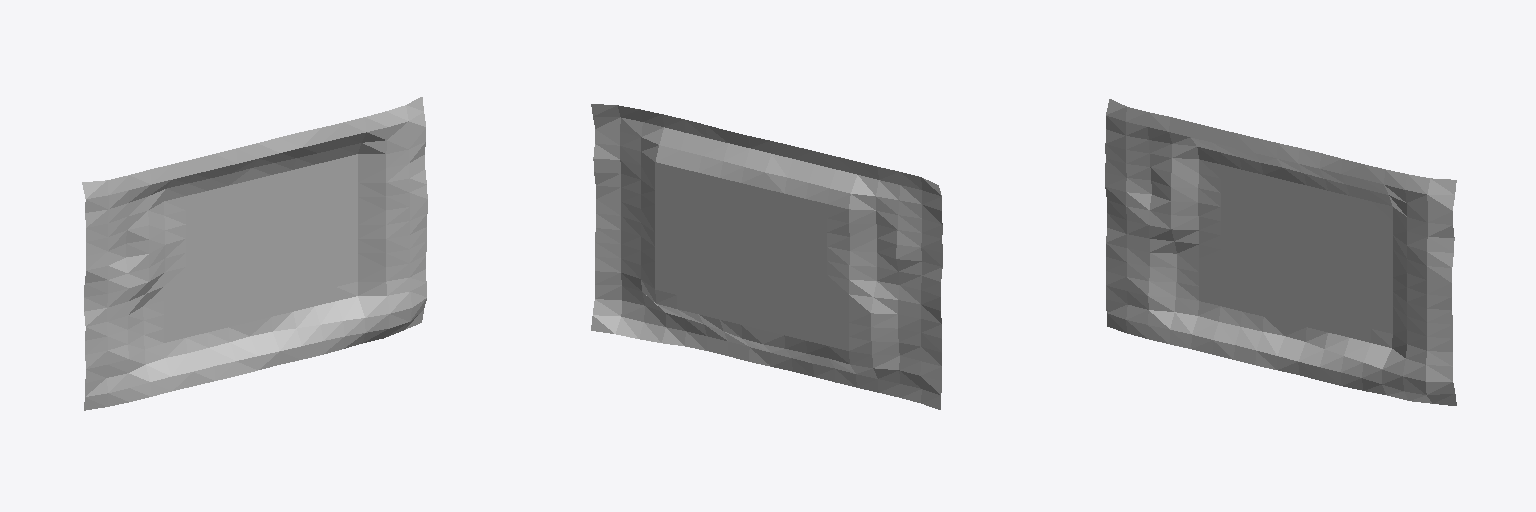
File: FirstWorld.obj
3 views of the same model, side by side, from view 1: azimuth 30°, elevation 25°; view 2: azimuth 150°, elevation 25°; view 3: azimuth 330°, elevation 25° (orthographic).
Parts seen in each view (by area): view 1: Plane; view 2: Plane; view 3: Plane.
Part boxes in pixels (bbox=[...]): Plane: bbox=[82, 97, 427, 410]; Plane: bbox=[591, 104, 942, 409]; Plane: bbox=[1105, 99, 1456, 405].
Size of the model in its own units: 3.67 by 2.33 by 0.202.